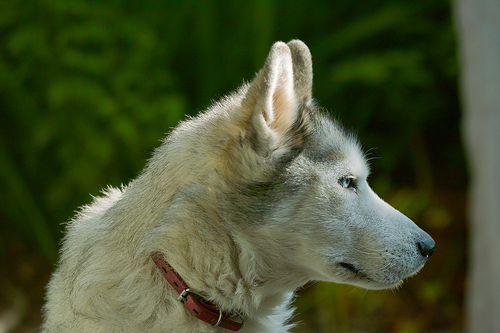dog: (42, 38, 436, 332)
